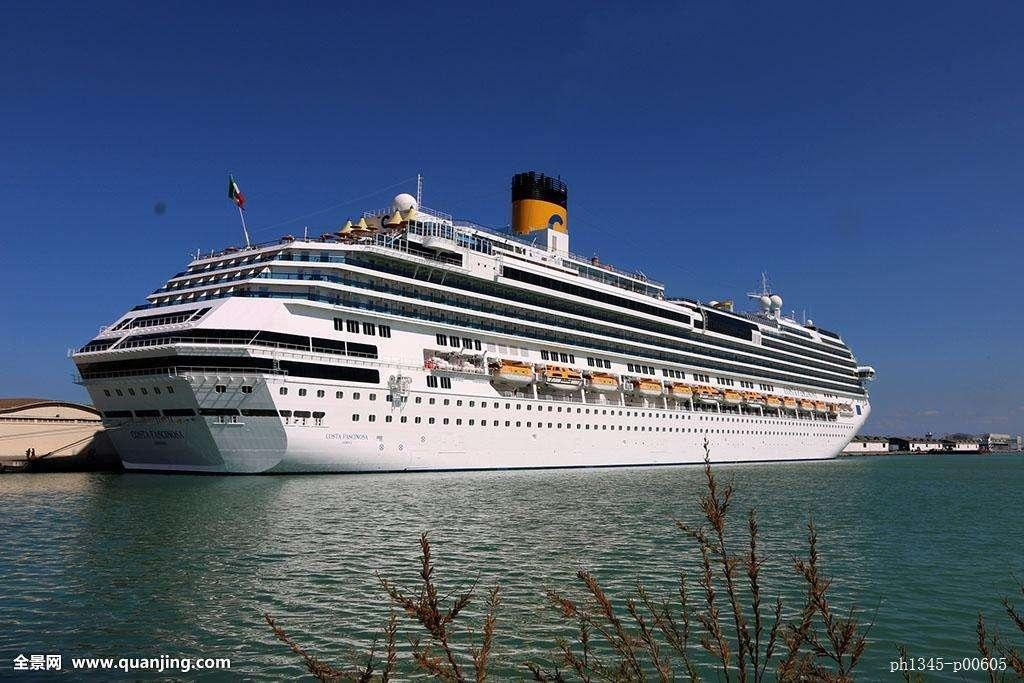youlun: (55, 170, 891, 478)
